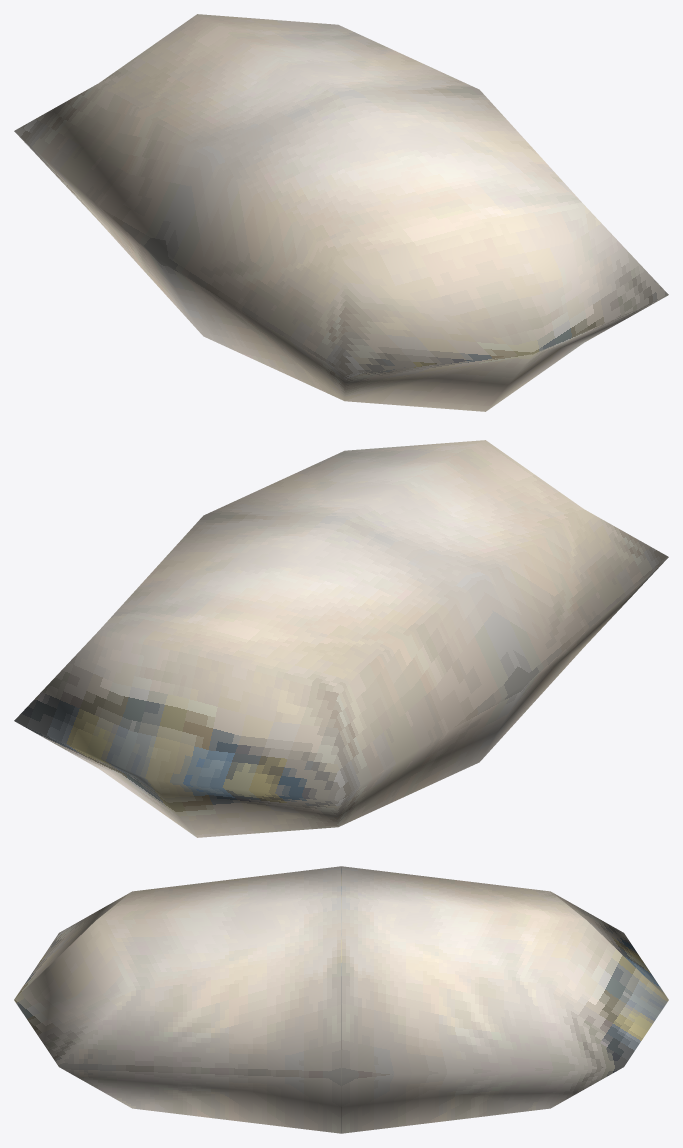
The model's file is innpillow.obj.
The picture shows the model from 3 angles, top to bottom: view 1: azimuth 30°, elevation 25°; view 2: azimuth 150°, elevation 25°; view 3: azimuth 270°, elevation 25°; orthographic projection. The views are drawn at different scales.
Parts seen in each view (by area): view 1: innpillow; view 2: innpillow; view 3: innpillow.
Boxes of the visible parts, <box> form: innpillow: <box>14,14,668,411</box>; innpillow: <box>14,440,668,837</box>; innpillow: <box>14,866,668,1133</box>.
Bounding box in the file's own units: 1.22 × 0.7556 × 2.2.
Materials: 1 (1 with a texture image).
